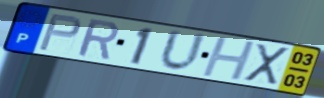1: (129, 26, 156, 66)
H: (199, 36, 259, 82)
P: (35, 13, 83, 53)
R: (75, 17, 120, 62)
U: (157, 27, 209, 73)
X: (242, 42, 291, 87)
